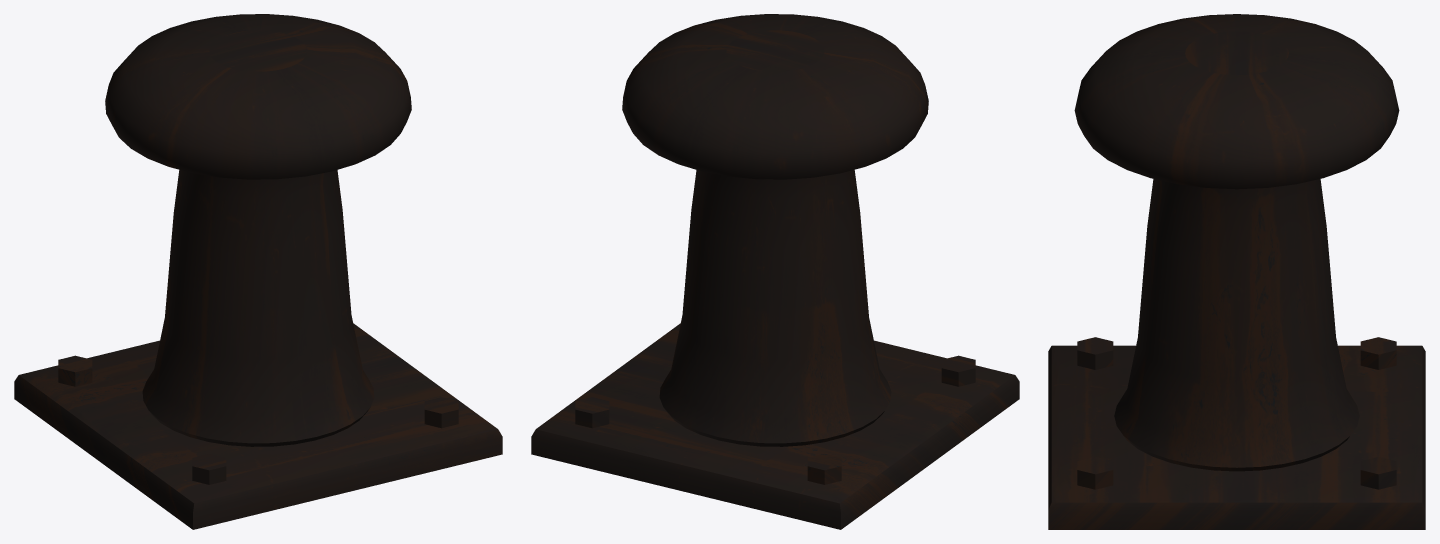
File: SM_Banchina_Bitta.fbx
3 renders of one model, left to right at view 1: azimuth 30°, elevation 25°; view 2: azimuth 150°, elevation 25°; view 3: azimuth 270°, elevation 25°, orthographic. The views are drawn at different scales.
Visible parts, largest first — view 1: SM_Banchina_Bitta; view 2: SM_Banchina_Bitta; view 3: SM_Banchina_Bitta.
Boxes of the visible parts, x1,y1,x2,y2 form: SM_Banchina_Bitta: [14, 14, 502, 529]; SM_Banchina_Bitta: [531, 14, 1019, 529]; SM_Banchina_Bitta: [1048, 14, 1425, 529].
Size of what is drawn, in the model's own units: 40 by 40 by 46.6.
1 material, 1 textured.
